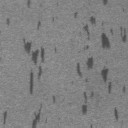red iron: (74, 12, 126, 128), (22, 21, 57, 128), (3, 110, 7, 125), (102, 0, 108, 5), (6, 18, 10, 25), (27, 0, 30, 8)
